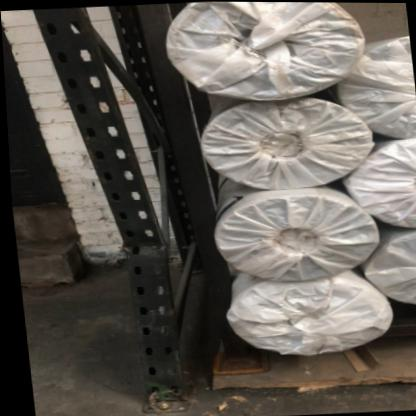vertical_damage: (75, 141, 174, 294)
